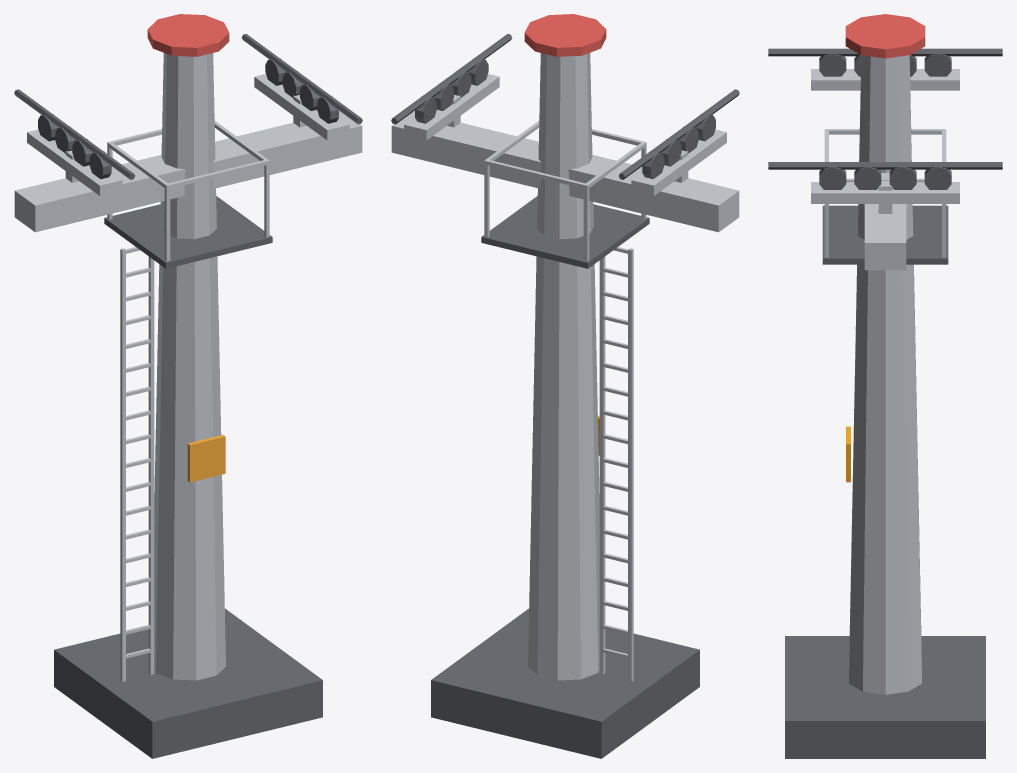
Rendered from lifttower.glb.
3 views of the same model, side by side, from view 1: azimuth 30°, elevation 25°; view 2: azimuth 150°, elevation 25°; view 3: azimuth 270°, elevation 25° (orthographic). The views are drawn at different scales.
Parts seen in each view (by area): view 1: chairlift-tower; view 2: chairlift-tower; view 3: chairlift-tower.
Boxes of the visible parts, x1,y1,x2,y2 form: chairlift-tower: [14, 14, 362, 758]; chairlift-tower: [391, 14, 739, 758]; chairlift-tower: [768, 14, 1002, 758].
Size of the model in its own units: 4.6 by 9.02 by 2.8.
